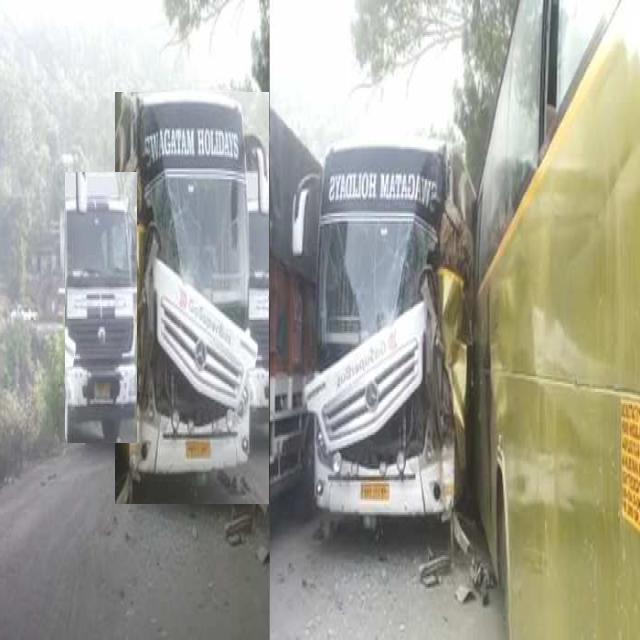accident: (294, 142, 475, 523), (115, 92, 269, 504)
truck: (65, 173, 137, 443)
